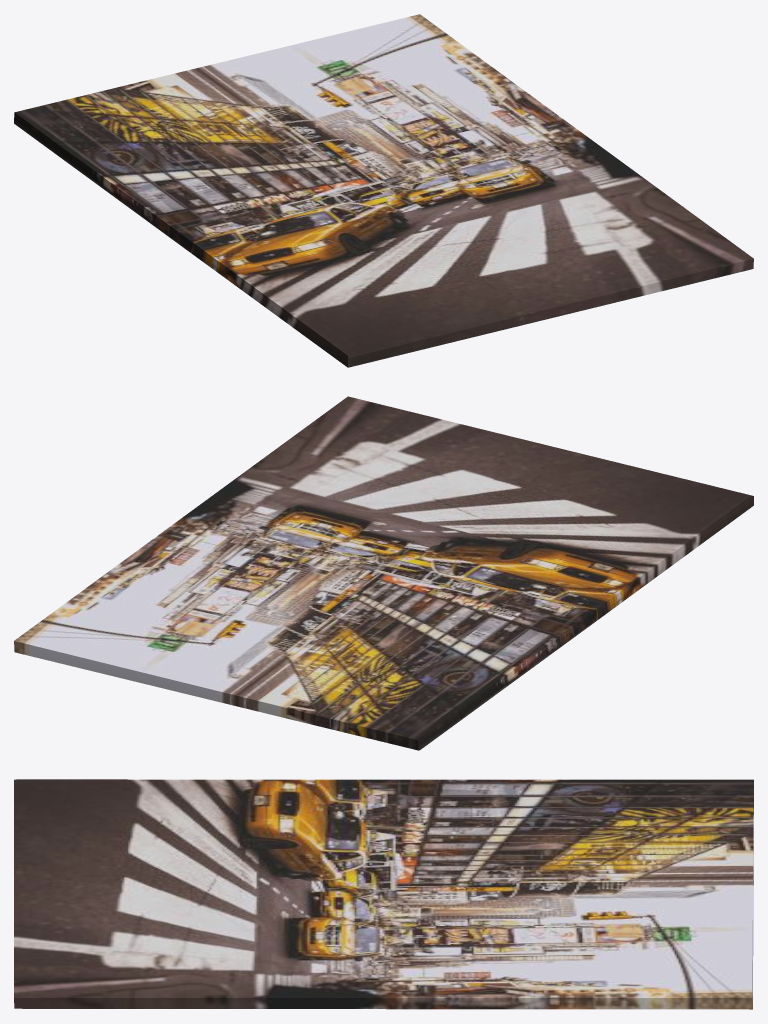
Rendered from jffjqdm0oqqr.glb.
3 views of the same model, one above another, from view 1: azimuth 30°, elevation 25°; view 2: azimuth 150°, elevation 25°; view 3: azimuth 270°, elevation 25° (orthographic). The views are drawn at different scales.
Visible parts, largest first — view 1: 1; view 2: 1; view 3: 1.
Part boxes in pixels (left/top/right/bottom): 1: left=14, top=14, right=753, bottom=367; 1: left=14, top=396, right=753, bottom=750; 1: left=14, top=779, right=753, bottom=1009.
Size of the model in its own units: 0.7004 by 0.0186 by 1.
1 material, 1 textured.
